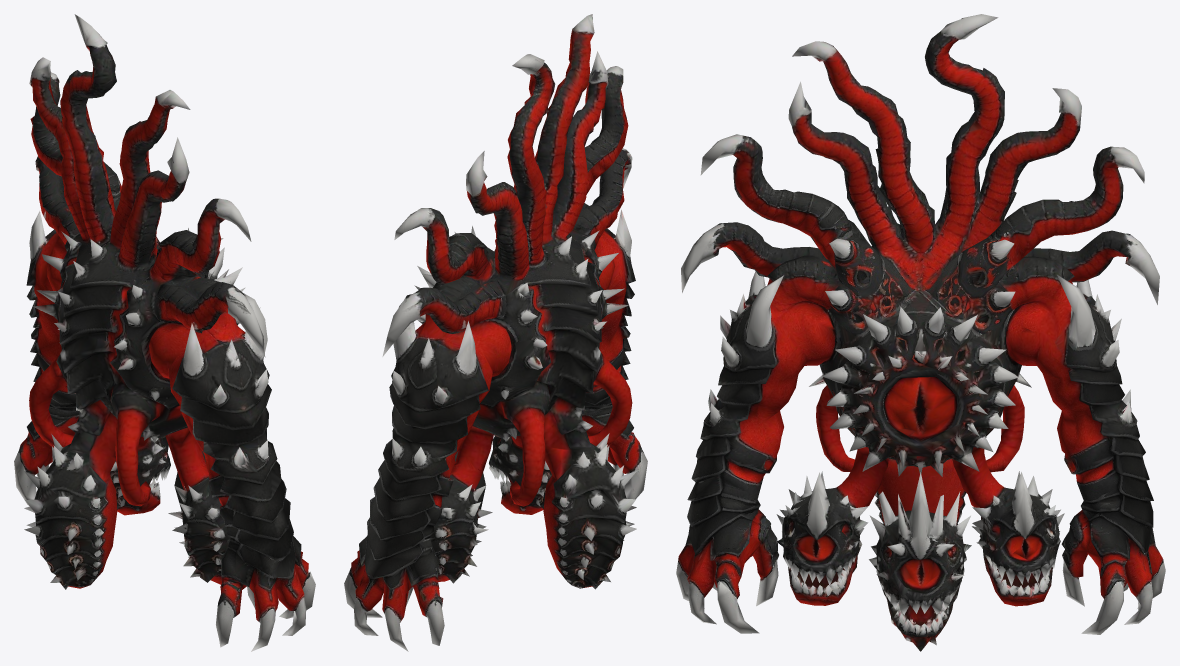
Rendered from Nemihydra.glb.
3 views of the same model, side by side, from view 1: azimuth 30°, elevation 25°; view 2: azimuth 150°, elevation 25°; view 3: azimuth 270°, elevation 25° (orthographic). The views are drawn at different scales.
Visible parts, largest first — view 1: tripo_node_4a17bcd4-e384-4f93-9b23-8d6d8c9848a4; view 2: tripo_node_4a17bcd4-e384-4f93-9b23-8d6d8c9848a4; view 3: tripo_node_4a17bcd4-e384-4f93-9b23-8d6d8c9848a4.
Boxes of the visible parts, x1,y1,x2,y2 form: tripo_node_4a17bcd4-e384-4f93-9b23-8d6d8c9848a4: (14, 14, 315, 651); tripo_node_4a17bcd4-e384-4f93-9b23-8d6d8c9848a4: (344, 14, 647, 651); tripo_node_4a17bcd4-e384-4f93-9b23-8d6d8c9848a4: (676, 14, 1165, 651).
Size of the model in its own units: 0.4371 by 0.9832 by 0.7575.
1 material, 1 textured.
